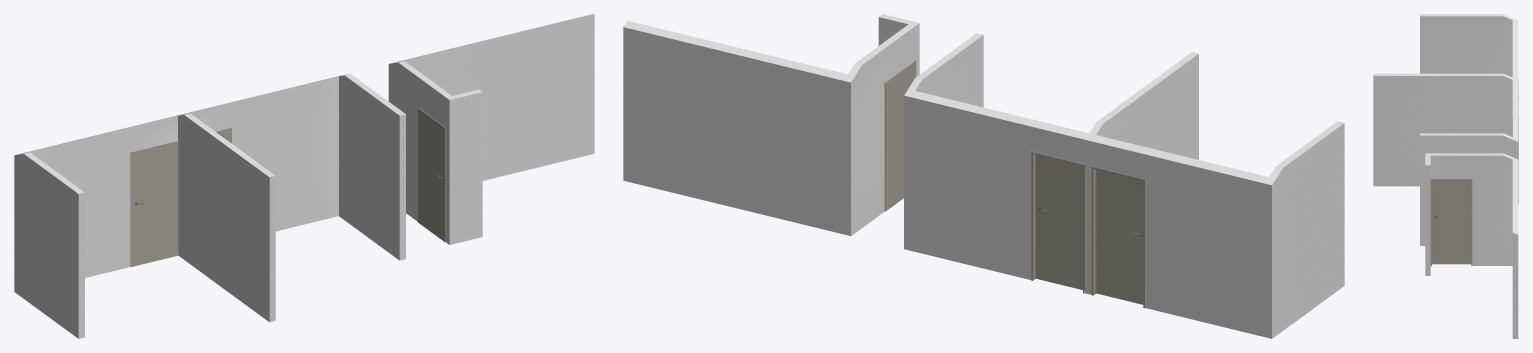
The picture shows the model from 3 angles, left to right: view 1: azimuth 30°, elevation 25°; view 2: azimuth 150°, elevation 25°; view 3: azimuth 270°, elevation 25°; orthographic projection. The views are drawn at different scales.
Visible parts, largest first — view 1: Op3; view 2: Op3; view 3: Op3.
Boxes of the visible parts, <box> form: Op3: <box>14,14,594,338</box>; Op3: <box>623,14,1344,338</box>; Op3: <box>1373,14,1518,338</box>.
Size of the model in its own units: 9722 by 2335 by 2785.
Materials: 3 (3 with a texture image).
